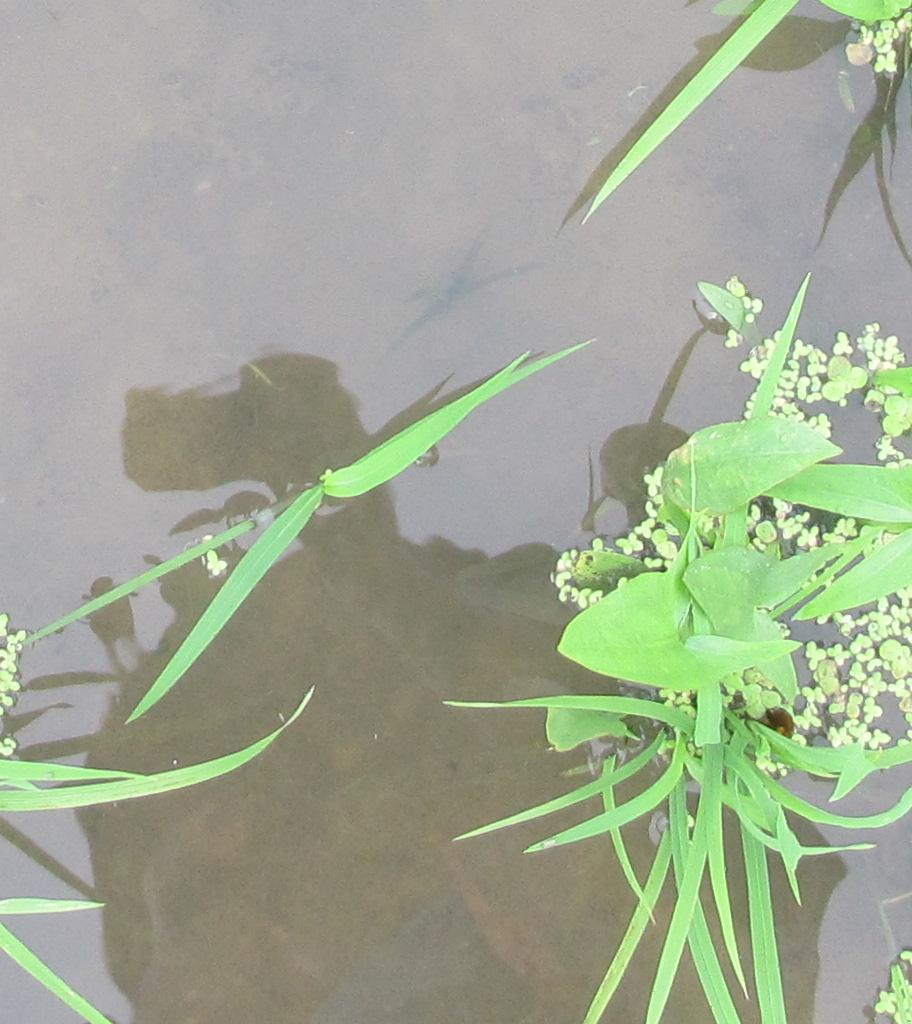Weed: (564, 411, 836, 692)
